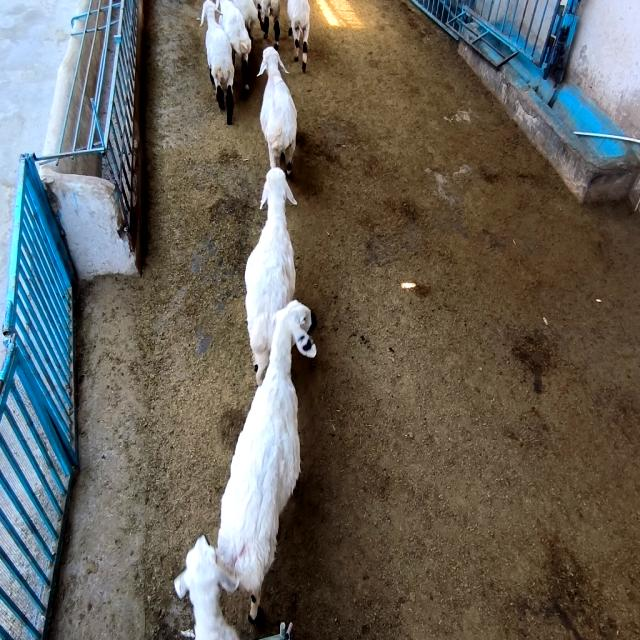sheep: (203, 300, 314, 630), (245, 167, 296, 384), (177, 535, 244, 640), (258, 47, 296, 174), (201, 0, 234, 125), (216, 0, 251, 98), (288, 0, 310, 72), (231, 0, 259, 41), (257, 0, 280, 49)
